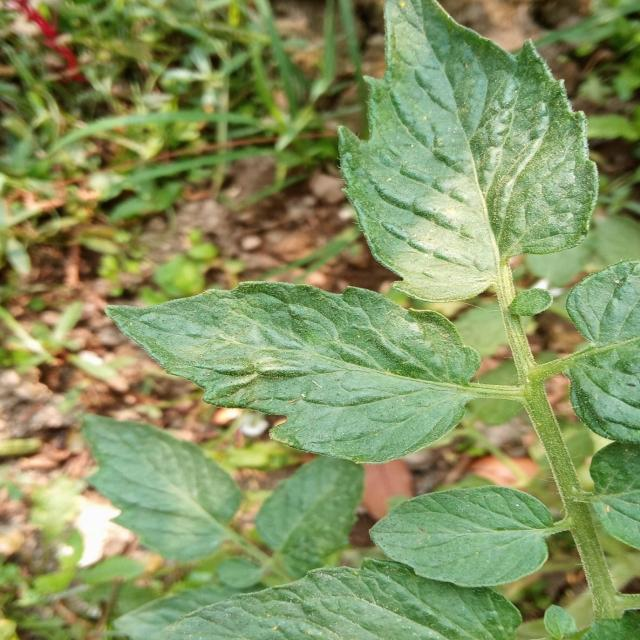Healthy: (281, 0, 632, 326), (85, 224, 504, 493), (367, 481, 559, 597)
